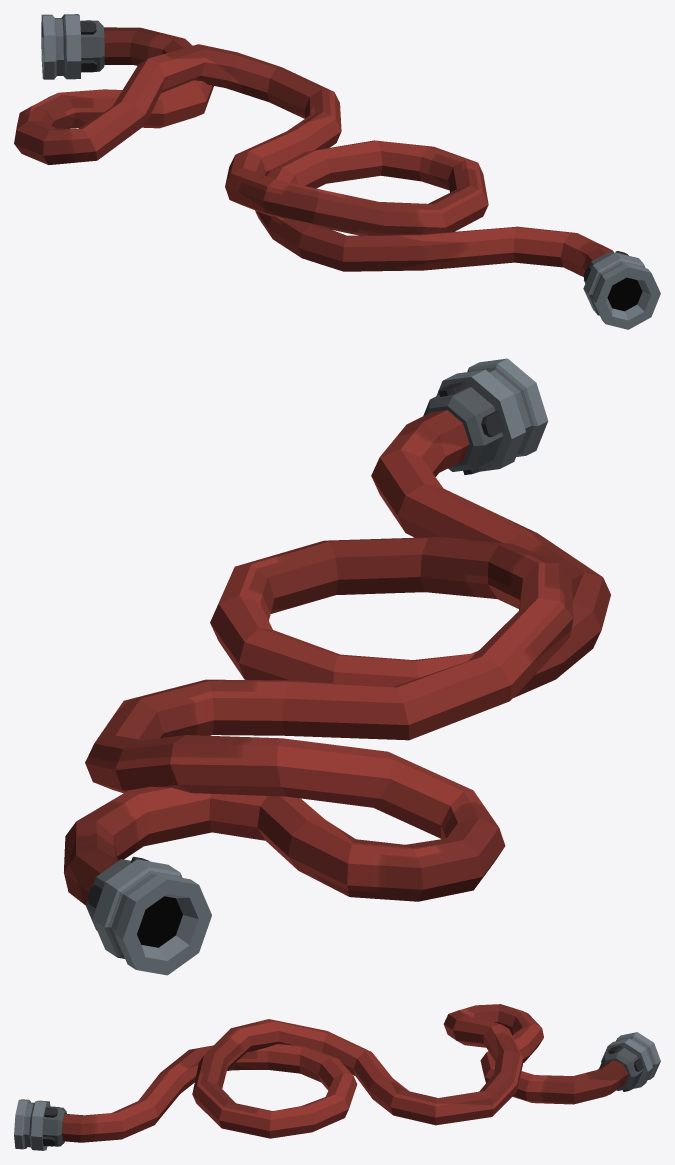
The model's file is desert_SM_Prop_Hose_02.gltf.
The picture shows the model from 3 angles, top to bottom: view 1: azimuth 30°, elevation 25°; view 2: azimuth 150°, elevation 25°; view 3: azimuth 270°, elevation 25°; orthographic projection. The views are drawn at different scales.
Parts seen in each view (by area): view 1: SM_Prop_Hose_02; view 2: SM_Prop_Hose_02; view 3: SM_Prop_Hose_02.
Part boxes in pixels (box(x1,y1,x2,y2)): SM_Prop_Hose_02: box(14, 14, 660, 329); SM_Prop_Hose_02: box(64, 358, 610, 975); SM_Prop_Hose_02: box(14, 1004, 660, 1150).
Bounding box in the file's own units: 1.18 × 0.2732 × 2.58.
1 material, 1 textured.
